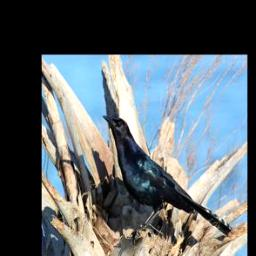Crow: (102, 114, 232, 245)
